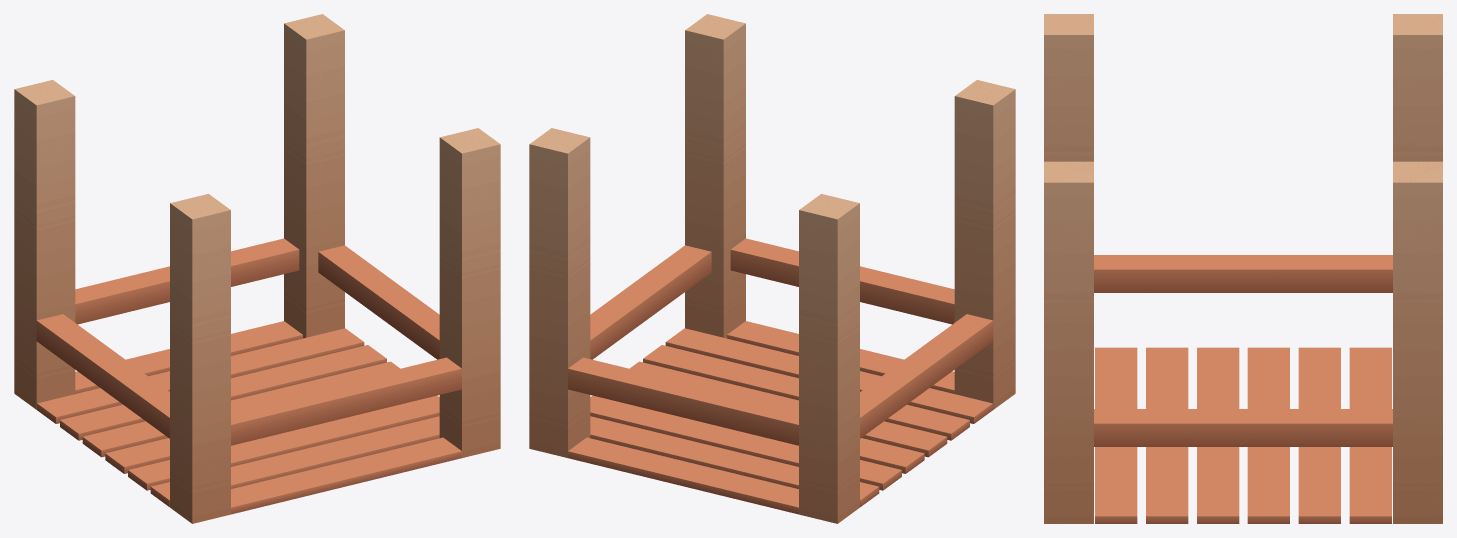
The model's file is tower-square-mid-open-simple.glb.
The picture shows the model from 3 angles, left to right: view 1: azimuth 30°, elevation 25°; view 2: azimuth 150°, elevation 25°; view 3: azimuth 270°, elevation 25°; orthographic projection. The views are drawn at different scales.
Visible parts, largest first — view 1: tower-square-mid-open-simple; view 2: tower-square-mid-open-simple; view 3: tower-square-mid-open-simple.
Part boxes in pixels (x1=…): tower-square-mid-open-simple: x1=14, y1=14, x2=500, y2=523; tower-square-mid-open-simple: x1=529, y1=14, x2=1015, y2=523; tower-square-mid-open-simple: x1=1044, y1=14, x2=1442, y2=523.
Bounding box in the file's own units: 0.93 × 0.8782 × 0.93.
Materials: 1 (1 with a texture image).
